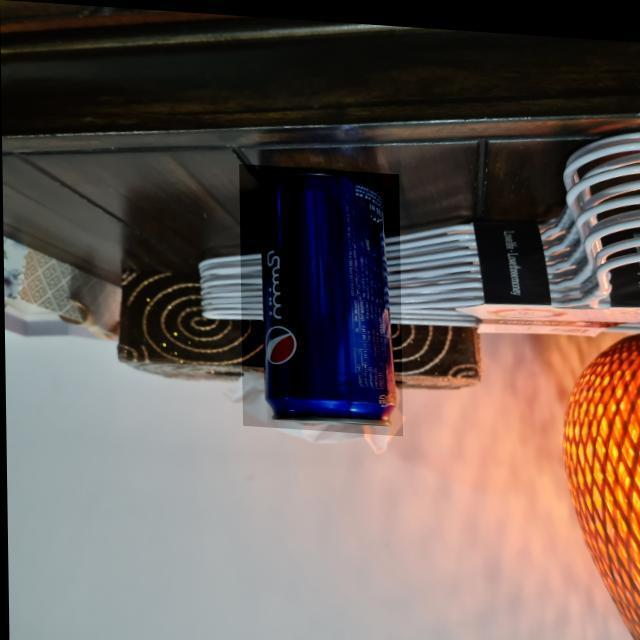trash: (259, 177, 405, 446)
